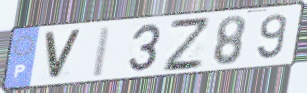3: (127, 21, 162, 74)
8: (212, 13, 248, 67)
9: (256, 13, 289, 61)
I: (89, 25, 114, 79)
V: (42, 29, 84, 82)
Z: (162, 17, 210, 74)
